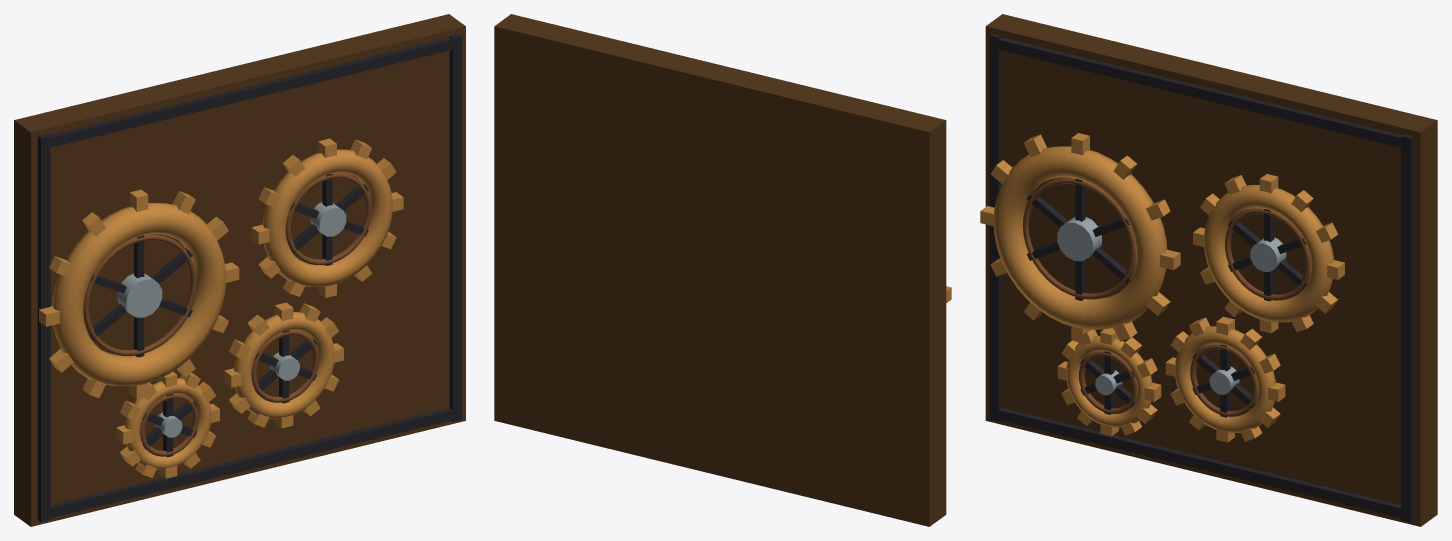
The model's file is mia-gear_wall.glb.
3 renders of one model, left to right at view 1: azimuth 30°, elevation 25°; view 2: azimuth 150°, elevation 25°; view 3: azimuth 330°, elevation 25°, orthographic.
Parts seen in each view (by area): view 1: Body_wood, Body_brass, Body_iron, Body_rust, Body_steel; view 2: Body_wood; view 3: Body_wood, Body_brass, Body_iron, Body_rust, Body_steel.
Part boxes in pixels (x1,y1,x2,y2): Body_wood: (14, 14, 465, 526); Body_brass: (39, 138, 403, 478); Body_iron: (37, 33, 462, 522); Body_rust: (83, 173, 371, 456); Body_steel: (117, 202, 346, 437); Body_wood: (494, 14, 946, 526); Body_wood: (985, 14, 1437, 526); Body_brass: (980, 133, 1344, 442); Body_iron: (989, 33, 1413, 522); Body_rust: (1023, 178, 1310, 416); Body_steel: (1057, 217, 1286, 395).
Size of the model in its own units: 3 by 2.6 by 0.3745.
